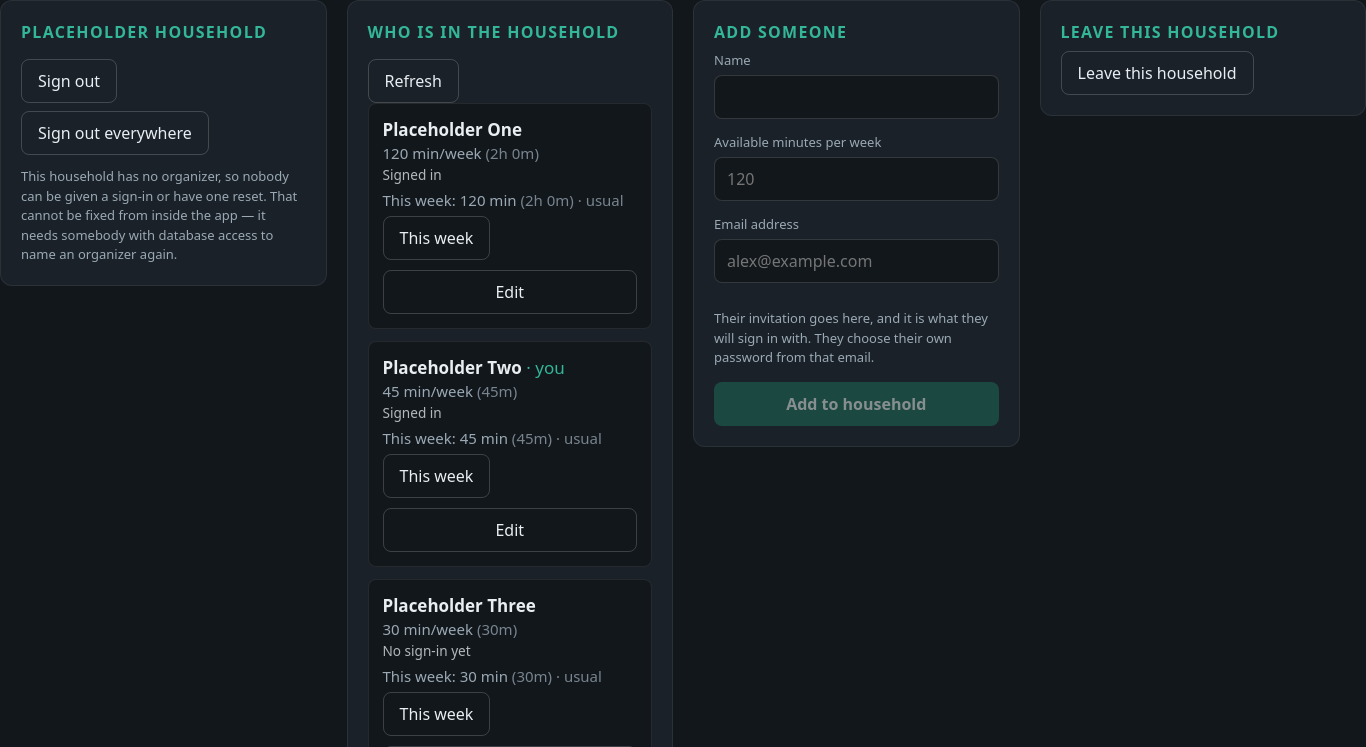
Scenario: leaving the household from the Who tab (#431) › backs out on Stay without leaving
Click the button "Leave this household" at [1157, 73], box [1060,51,1254,95]
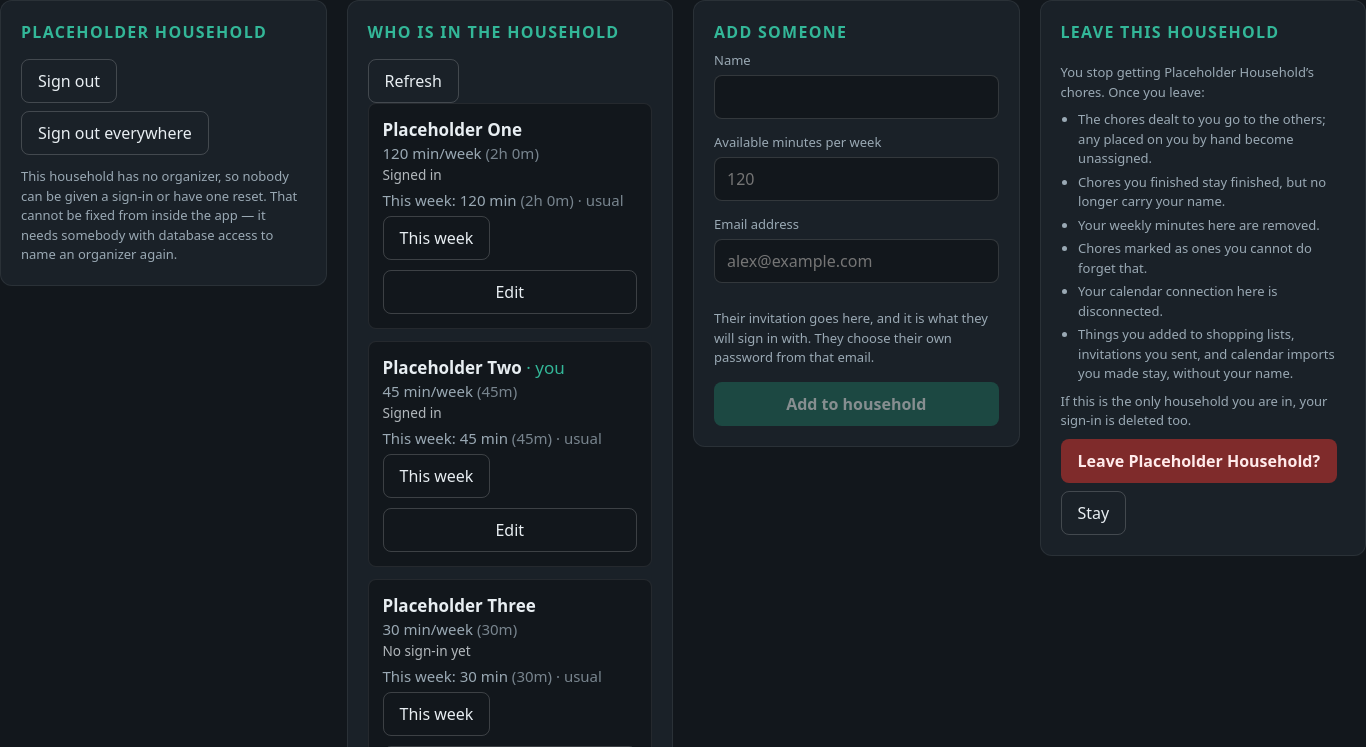
Click the button "Stay" at [1093, 512], box [1060,490,1126,534]
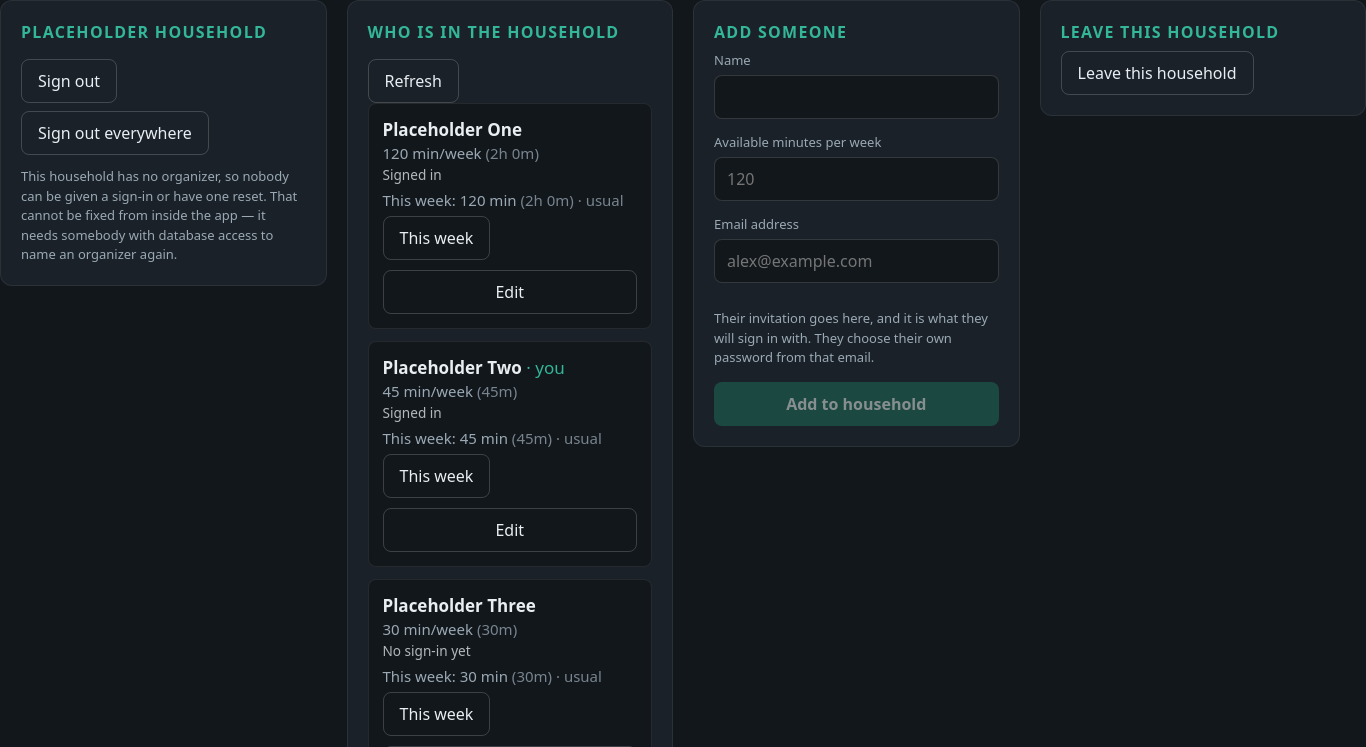
Result: the button "Leave this household" is shown at [1060,51,1254,95]
